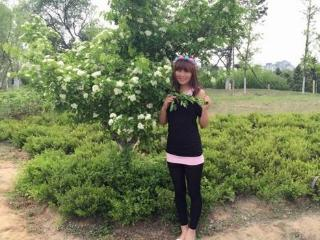short sleeve dress: (162, 87, 208, 165)
trousers: (167, 141, 204, 229)
